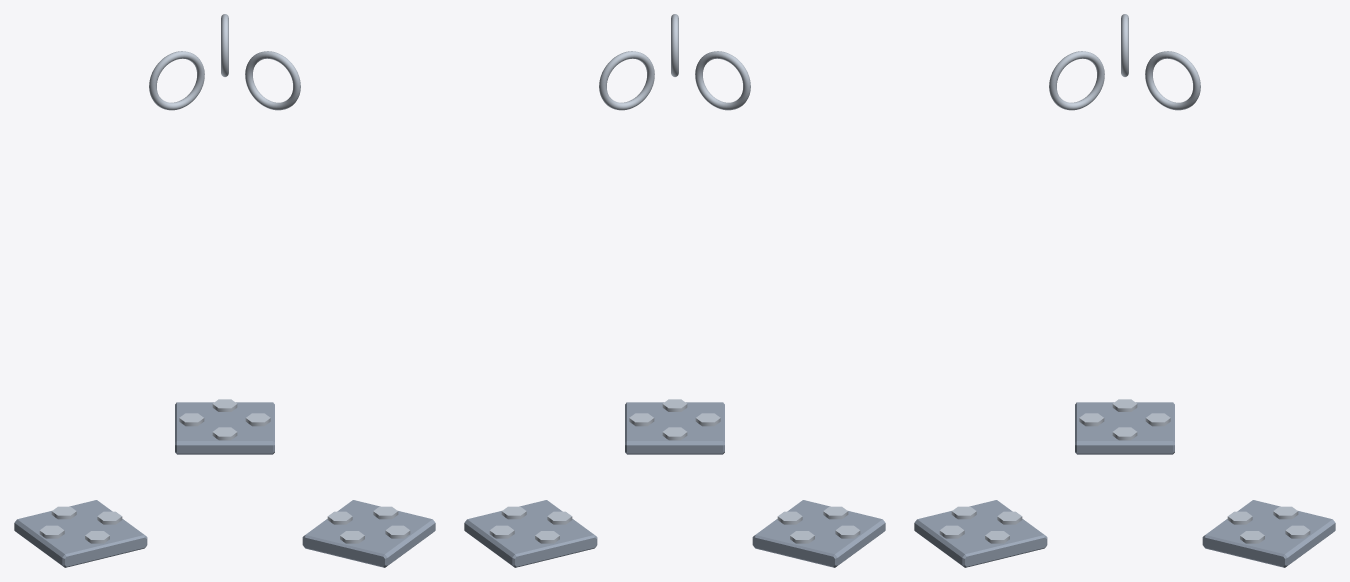
Rendered from tower_singularity_range_s3.glb.
3 views of the same model, side by side, from view 1: azimuth 30°, elevation 25°; view 2: azimuth 150°, elevation 25°; view 3: azimuth 270°, elevation 25° (orthographic).
Parts seen in each view (by area): view 1: singularity_foot_plate0, singularity_foot_plate1, singularity_foot_plate2, singularity_focus_ring0, singularity_focus_ring1, singularity_foot_plate_bolts2, singularity_foot_plate_bolts0, singularity_foot_plate_bolts1; view 2: singularity_foot_plate0, singularity_foot_plate2, singularity_foot_plate1, singularity_focus_ring0, singularity_focus_ring2, singularity_foot_plate_bolts1, singularity_foot_plate_bolts0, singularity_foot_plate_bolts2; view 3: singularity_foot_plate1, singularity_foot_plate2, singularity_foot_plate0, singularity_focus_ring1, singularity_focus_ring2, singularity_foot_plate_bolts0, singularity_foot_plate_bolts1, singularity_foot_plate_bolts2.
Boxes of the visible parts, x1=… form: singularity_foot_plate0: x1=14, y1=500, x2=147, y2=567; singularity_foot_plate1: x1=302, y1=500, x2=435, y2=567; singularity_foot_plate2: x1=175, y1=402, x2=274, y2=454; singularity_focus_ring0: x1=149, y1=51, x2=204, y2=110; singularity_focus_ring1: x1=245, y1=51, x2=300, y2=110; singularity_foot_plate_bolts2: x1=179, y1=399, x2=270, y2=440; singularity_foot_plate_bolts0: x1=39, y1=506, x2=122, y2=543; singularity_foot_plate_bolts1: x1=327, y1=506, x2=410, y2=543; singularity_foot_plate0: x1=752, y1=500, x2=885, y2=567; singularity_foot_plate2: x1=464, y1=500, x2=597, y2=567; singularity_foot_plate1: x1=625, y1=402, x2=724, y2=454; singularity_focus_ring0: x1=695, y1=51, x2=750, y2=110; singularity_focus_ring2: x1=599, y1=51, x2=654, y2=110; singularity_foot_plate_bolts1: x1=629, y1=399, x2=720, y2=440; singularity_foot_plate_bolts0: x1=777, y1=506, x2=860, y2=543; singularity_foot_plate_bolts2: x1=489, y1=506, x2=572, y2=543; singularity_foot_plate1: x1=914, y1=500, x2=1047, y2=567; singularity_foot_plate2: x1=1202, y1=500, x2=1335, y2=567; singularity_foot_plate0: x1=1075, y1=402, x2=1174, y2=454; singularity_focus_ring1: x1=1049, y1=51, x2=1104, y2=110; singularity_focus_ring2: x1=1145, y1=51, x2=1200, y2=110; singularity_foot_plate_bolts0: x1=1079, y1=399, x2=1170, y2=440; singularity_foot_plate_bolts1: x1=939, y1=506, x2=1022, y2=543; singularity_foot_plate_bolts2: x1=1227, y1=506, x2=1310, y2=543.
Size of the model in its own units: 1.32 by 1.85 by 1.52.
